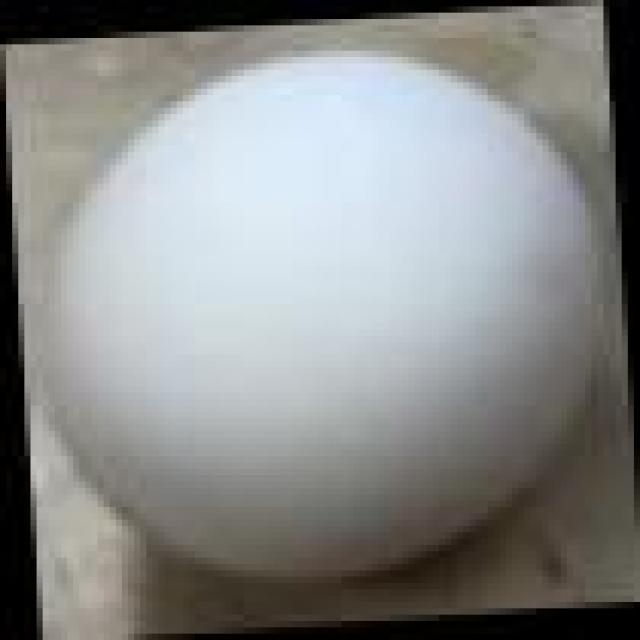Egg: (0, 31, 628, 614)
